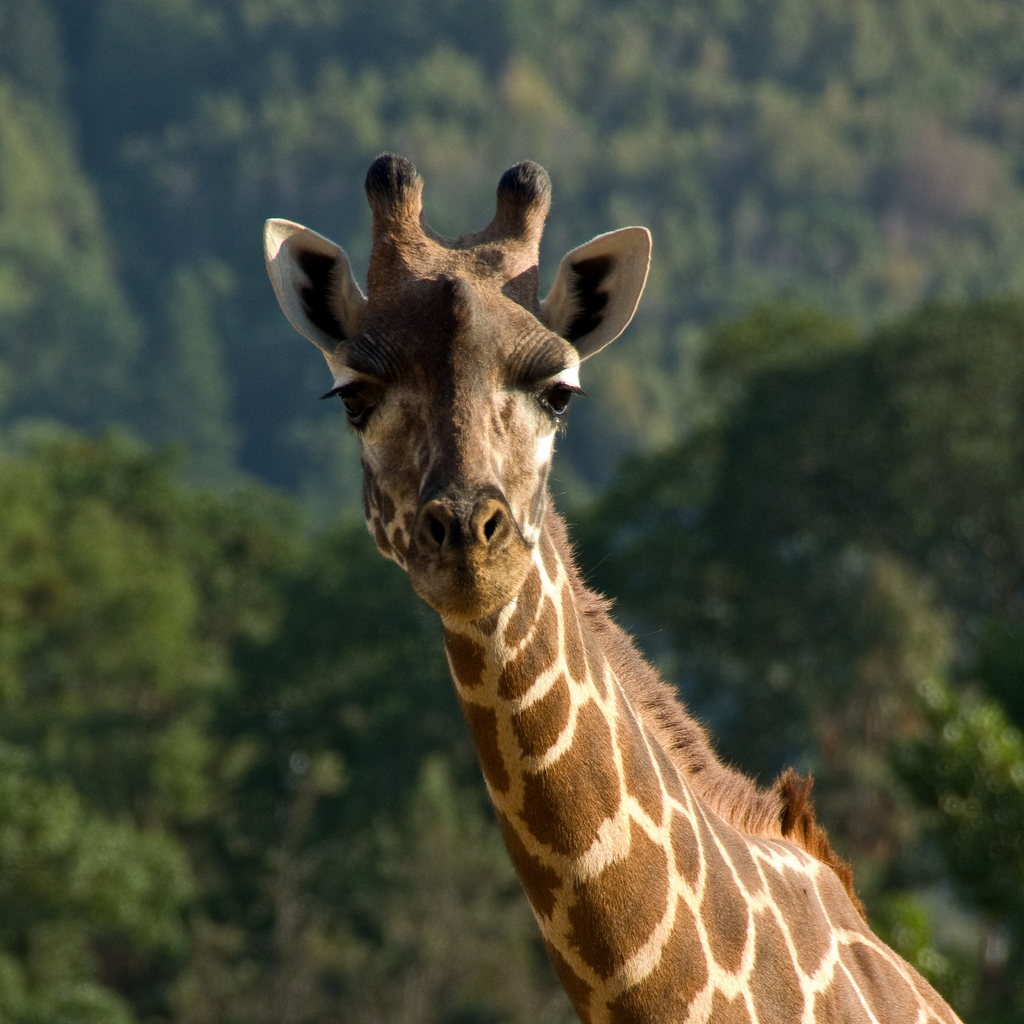giraffe: (241, 140, 871, 1019)
